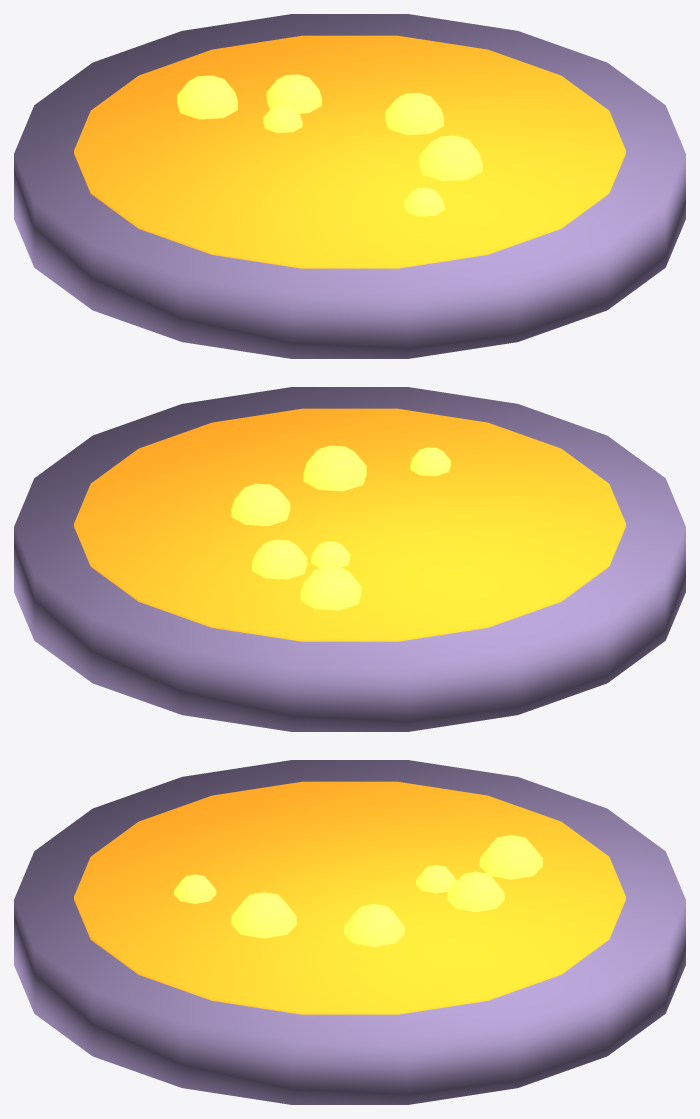
File: obstacle_lava_pool.glb
3 views of the same model, one above another, from view 1: azimuth 30°, elevation 25°; view 2: azimuth 150°, elevation 25°; view 3: azimuth 270°, elevation 25° (orthographic).
Parts seen in each view (by area): view 1: Lava_Pool; view 2: Lava_Pool; view 3: Lava_Pool.
Boxes of the visible parts, x1,y1,x2,y2 form: Lava_Pool: [14, 14, 685, 358]; Lava_Pool: [14, 387, 685, 731]; Lava_Pool: [14, 760, 685, 1104].
Size of the model in its own units: 2.76 by 0.4536 by 2.8.
